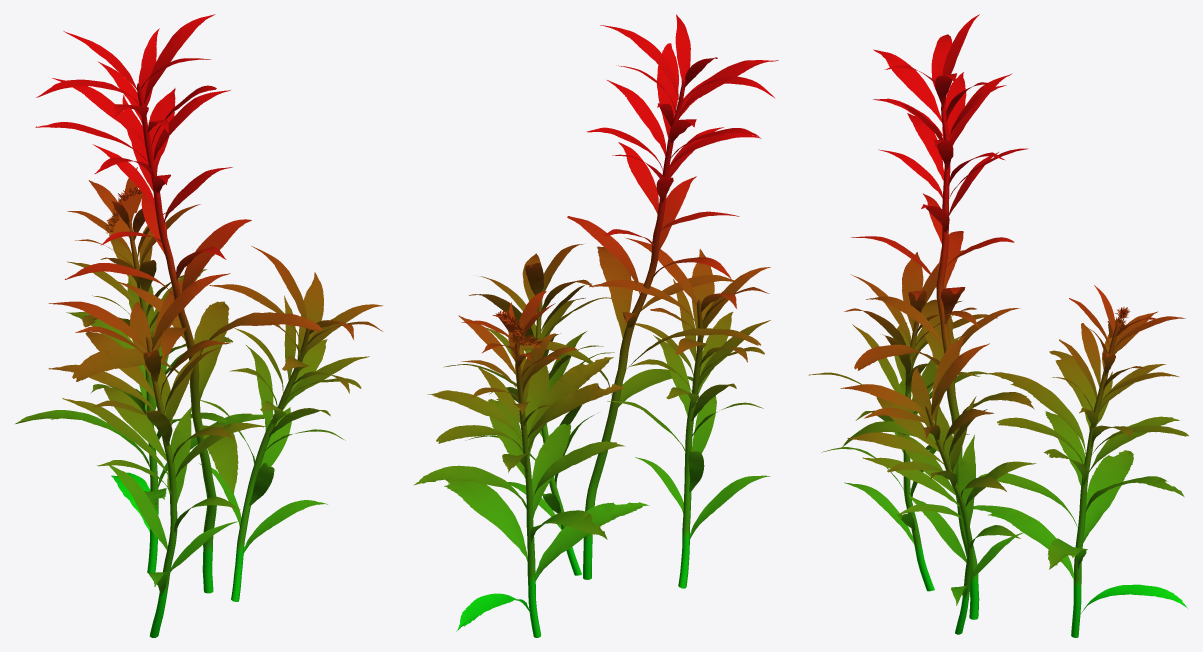
Rendered from Goldenrods_LOD1_Var7.fbx.
3 renders of one model, left to right at view 1: azimuth 30°, elevation 25°; view 2: azimuth 150°, elevation 25°; view 3: azimuth 270°, elevation 25°, orthographic. The views are drawn at different scales.
Visible parts, largest first — view 1: _zh3a_Var7_LOD1; view 2: _zh3a_Var7_LOD1; view 3: _zh3a_Var7_LOD1.
Boxes of the visible parts, <box> form: _zh3a_Var7_LOD1: <box>15,14,383,637</box>; _zh3a_Var7_LOD1: <box>414,14,778,637</box>; _zh3a_Var7_LOD1: <box>808,14,1188,637</box>.
Size of the model in its own units: 50.04 by 87.52 by 53.9.
